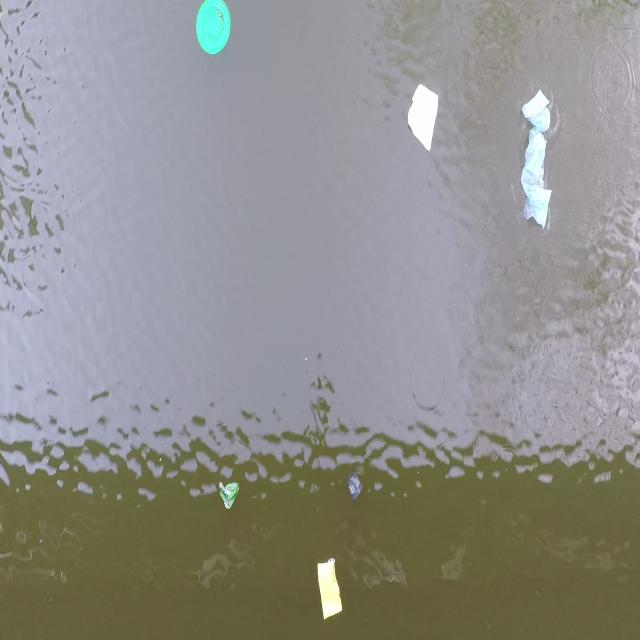Autre plastique: (191, 0, 234, 60)
Sac plastique: (518, 86, 560, 232), (215, 475, 241, 516)
